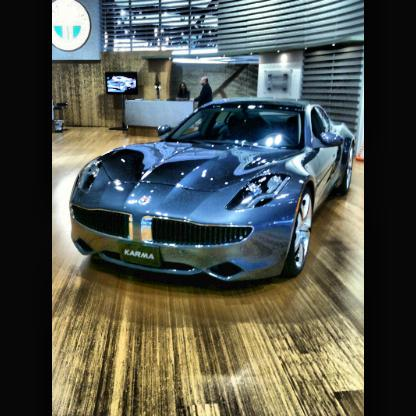Fisker Karma Sedan 2012: (68, 95, 356, 297)
